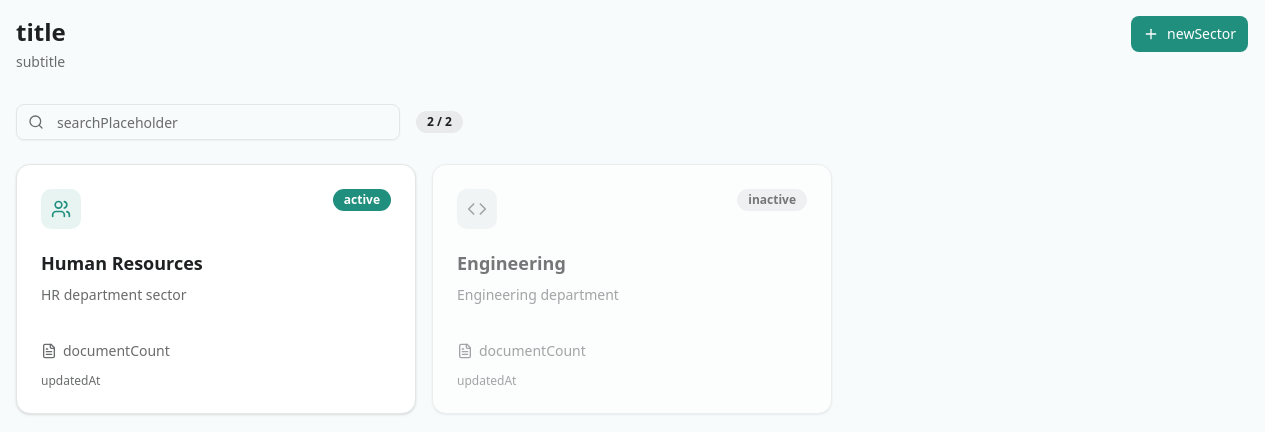
Test: SectorsView › should filter sectors by search
The image size is (1265, 432).
Step 1. Type "human" into the field with placeholder "searchPlaceholder" → (208, 122), box x1=16 y1=104 x2=400 y2=140
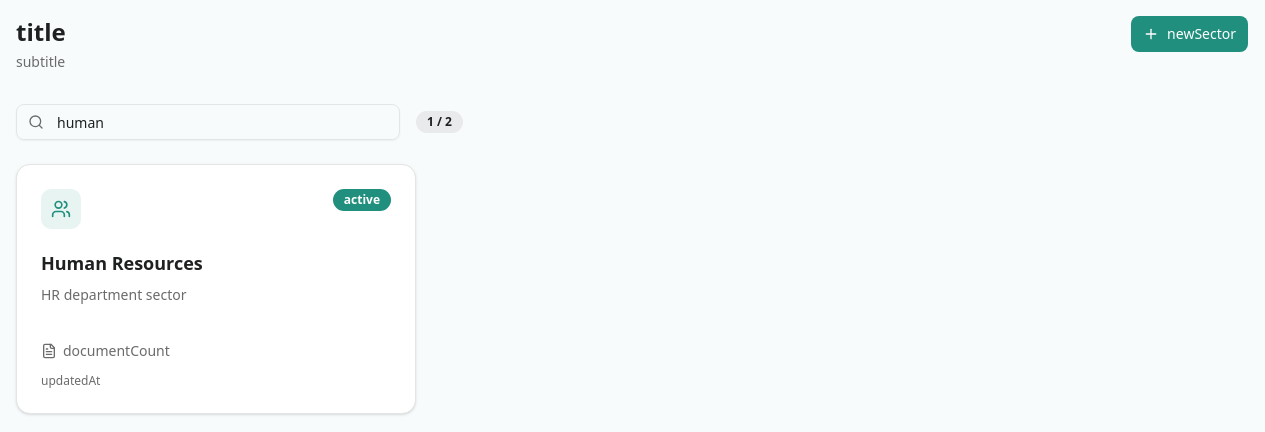
Check: the text "Human Resources" is shown, box x1=41 y1=251 x2=203 y2=275
Check: the button "Engineering" is gone
Check: the text "1 / 2" is shown, box x1=416 y1=111 x2=463 y2=133
